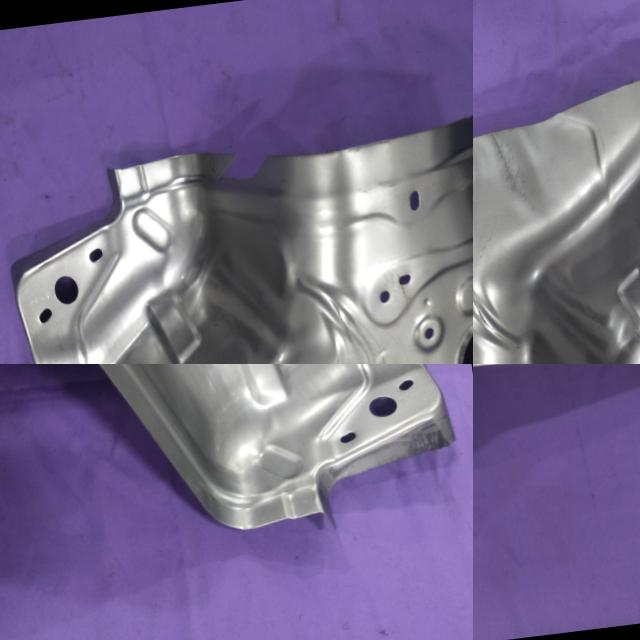Defect: (158, 123, 282, 210)
Healthy: (0, 364, 473, 585)
